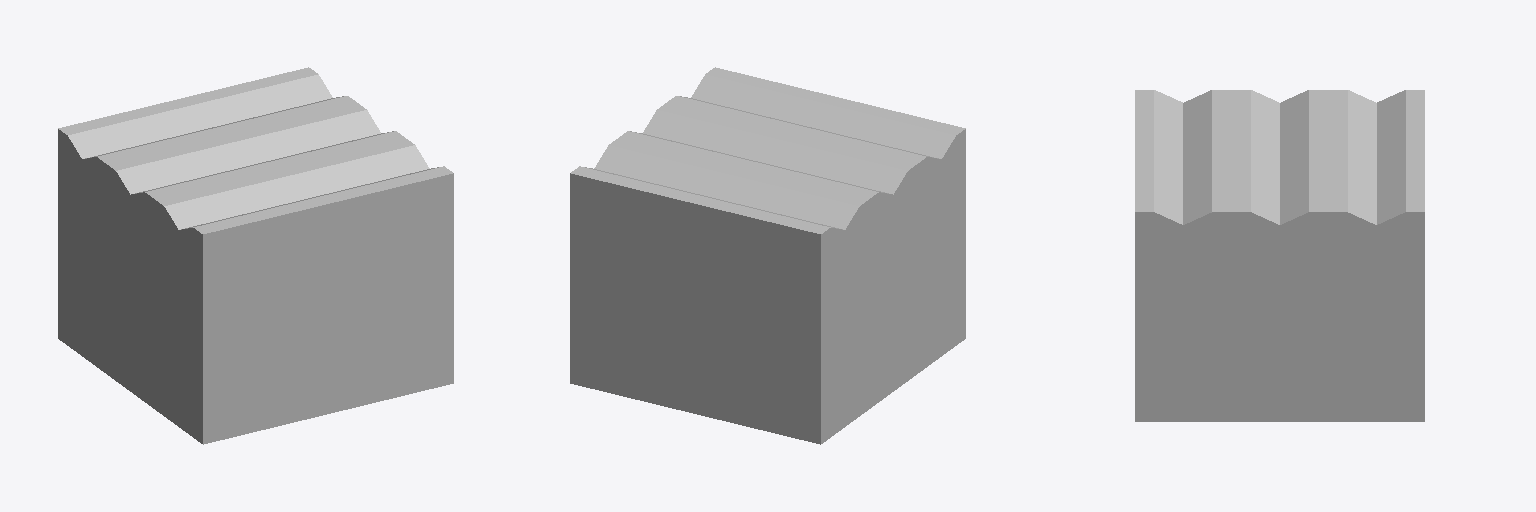
Rendered from Spacestation_Structure_Ribbed_Straight_Horizontal.obj.
3 views of the same model, side by side, from view 1: azimuth 30°, elevation 25°; view 2: azimuth 150°, elevation 25°; view 3: azimuth 270°, elevation 25° (orthographic).
Parts seen in each view (by area): view 1: object1; view 2: object1; view 3: object1.
Boxes of the visible parts, <box> form: object1: <box>58,67,453,444</box>; object1: <box>570,67,965,444</box>; object1: <box>1135,90,1424,421</box>.
Size of the model in its own units: 1 by 0.8 by 1.